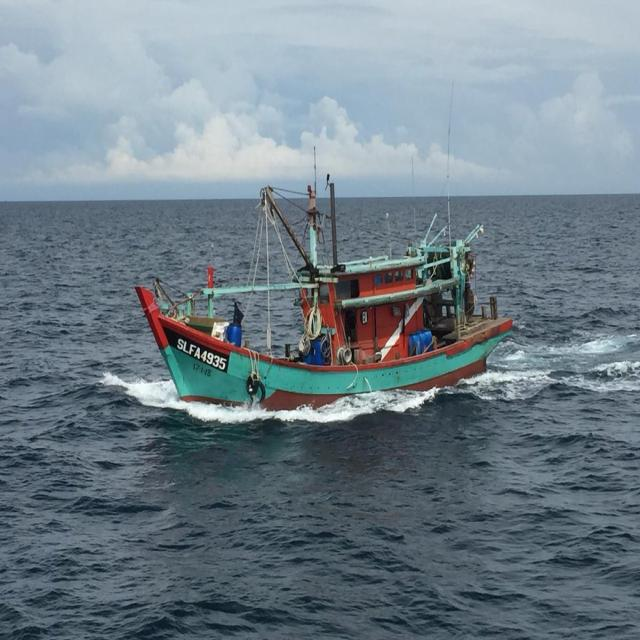Fishing Boat: (62, 137, 500, 413)
